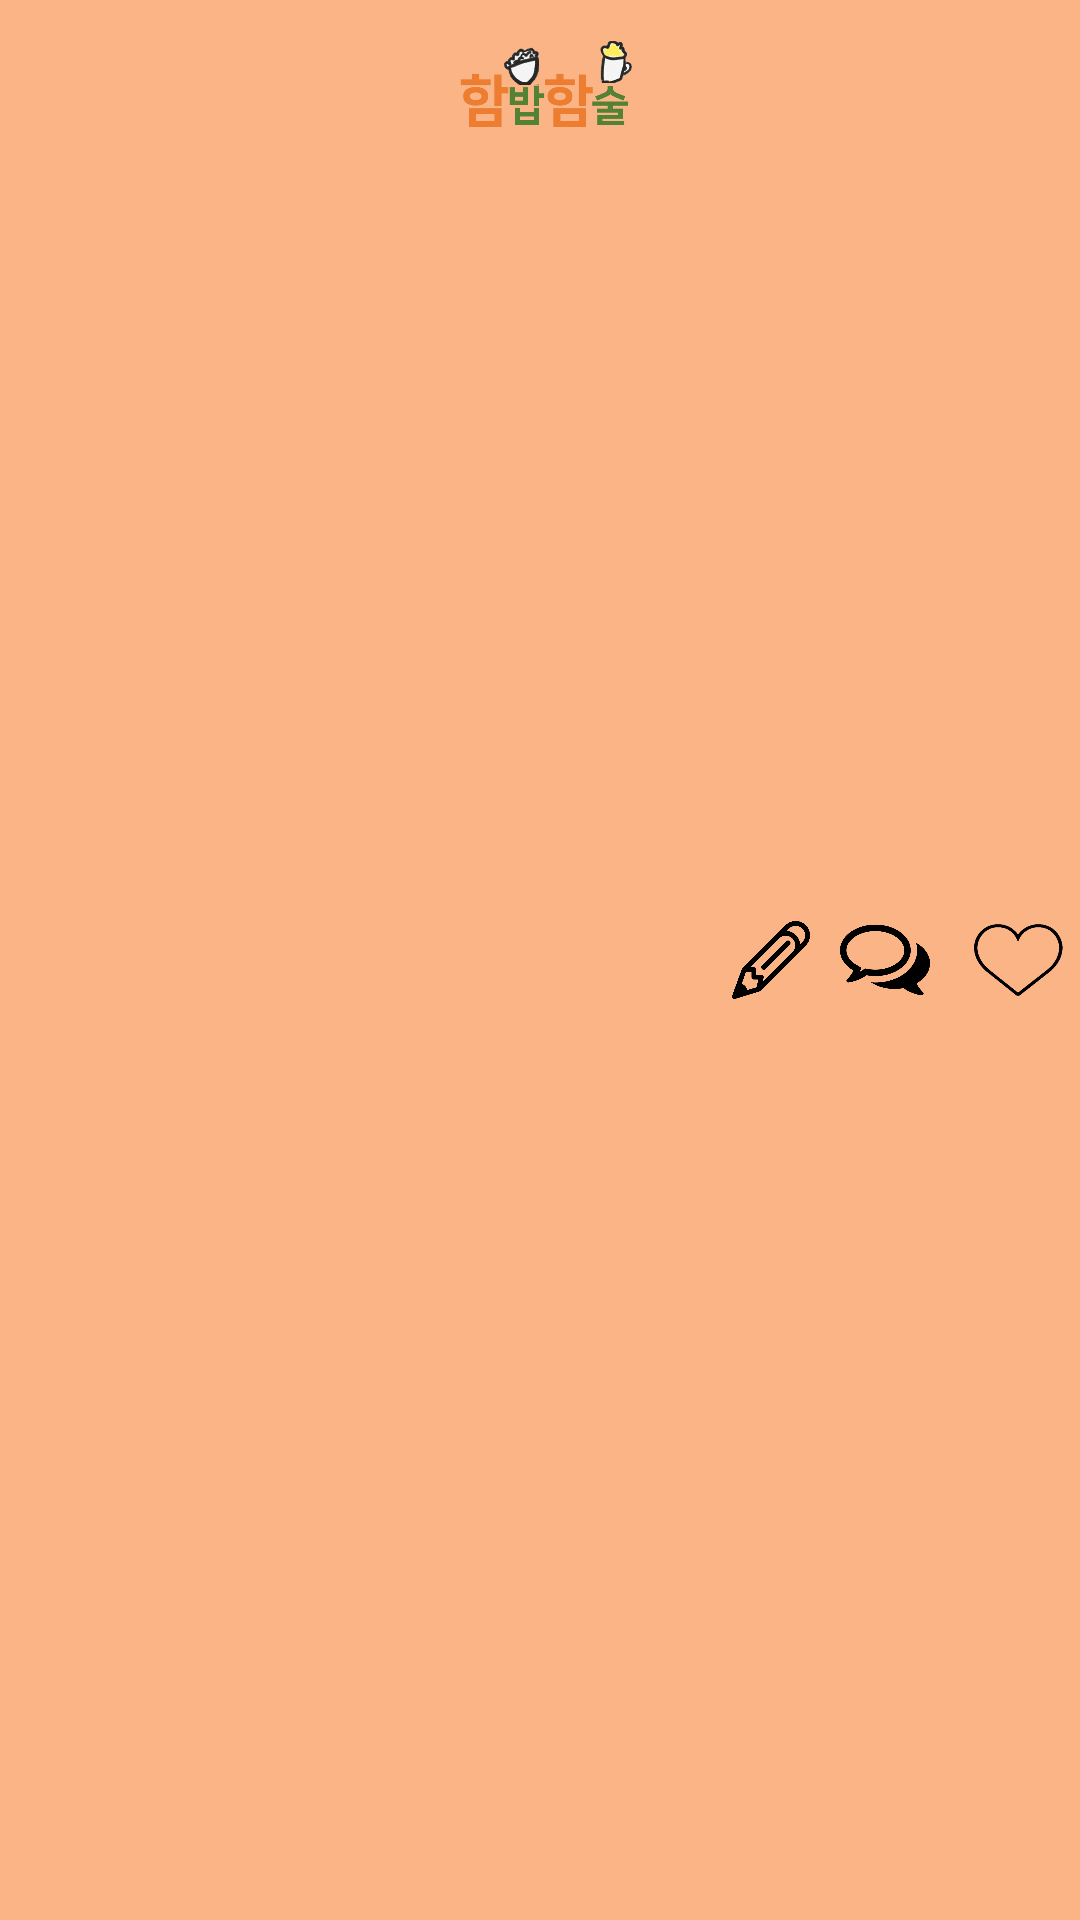

Where to tap for icons on this 1080px x 1920px app screen, as [x,y]:
comments: [885,960]
jjim: [1018,960]
pencil: [771,960]
